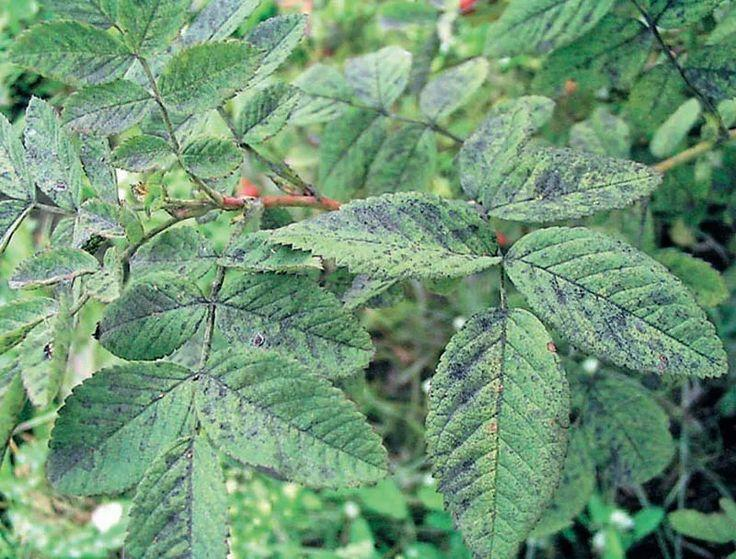soot dew: (529, 275, 697, 374), (510, 148, 658, 218), (212, 302, 348, 372), (281, 201, 483, 246), (433, 303, 504, 415), (98, 281, 208, 340), (154, 440, 196, 557), (433, 456, 482, 546), (206, 375, 278, 434), (67, 100, 149, 137), (46, 442, 102, 483), (245, 16, 286, 53)
